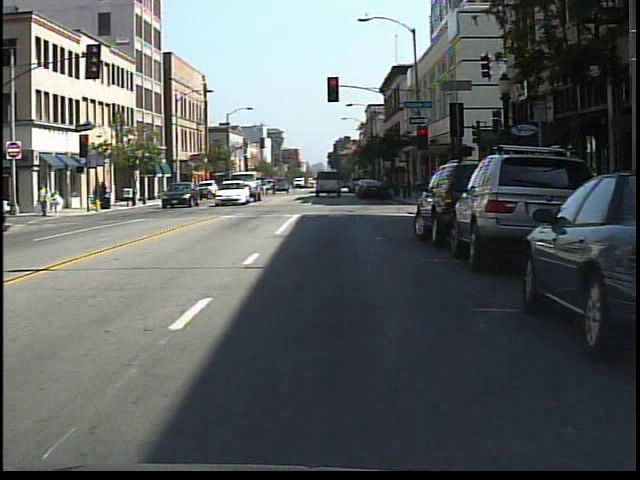person: (36, 181, 54, 220), (49, 185, 66, 220)
